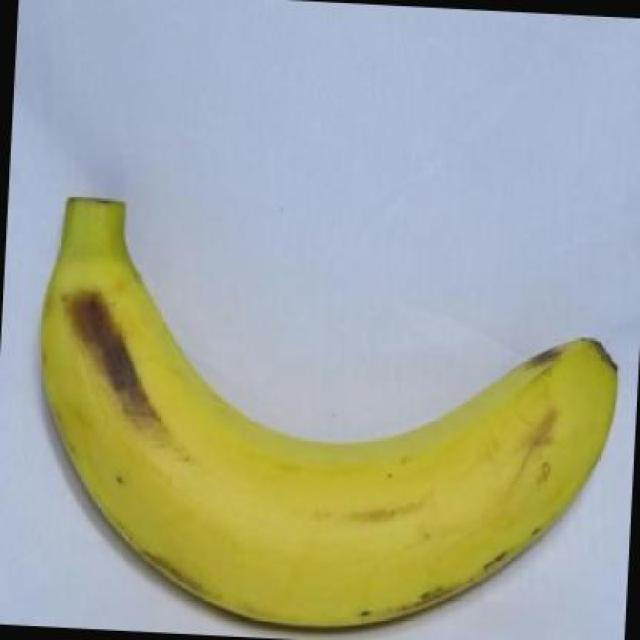ripe: (17, 175, 640, 629)
